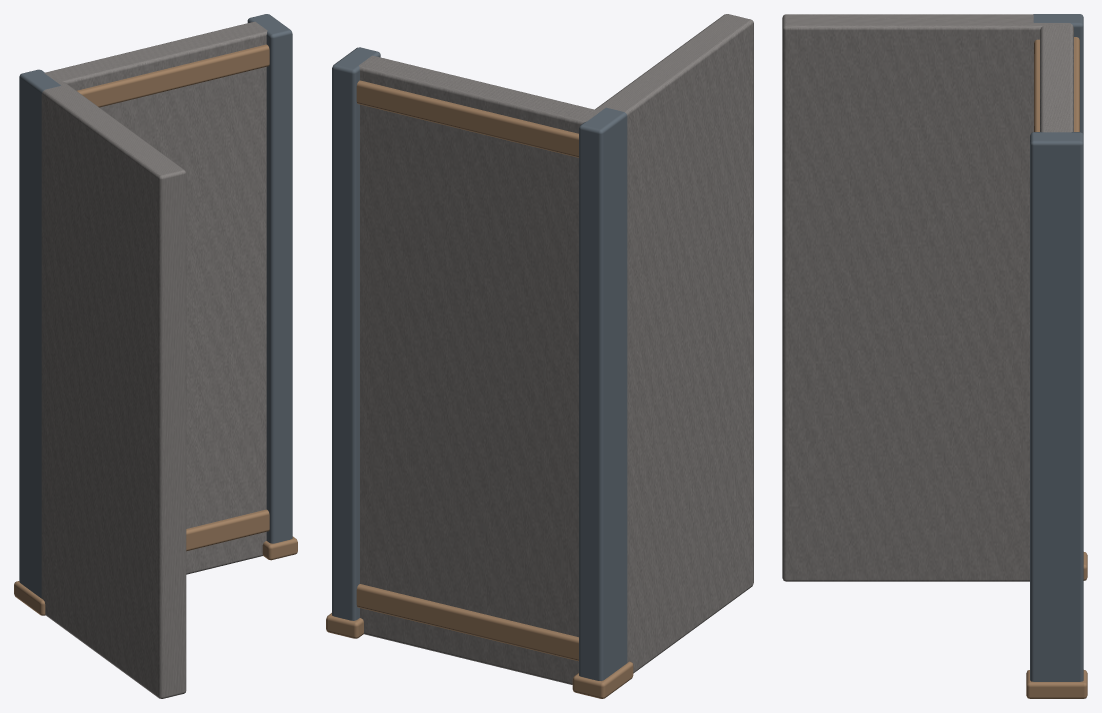
Rendered from arena-shooter-map-kit-wall-corner-575f848e__23067.glb.
3 renders of one model, left to right at view 1: azimuth 30°, elevation 25°; view 2: azimuth 150°, elevation 25°; view 3: azimuth 270°, elevation 25°, orthographic. The views are drawn at different scales.
Visible parts, largest first — view 1: wall-corner; view 2: wall-corner; view 3: wall-corner.
Part boxes in pixels (bbox=[...]): wall-corner: bbox=[14, 14, 297, 698]; wall-corner: bbox=[326, 14, 753, 698]; wall-corner: bbox=[782, 14, 1087, 698].
Bounding box in the file's own units: 2.06 × 4 × 1.99.
3 materials, 1 textured.
